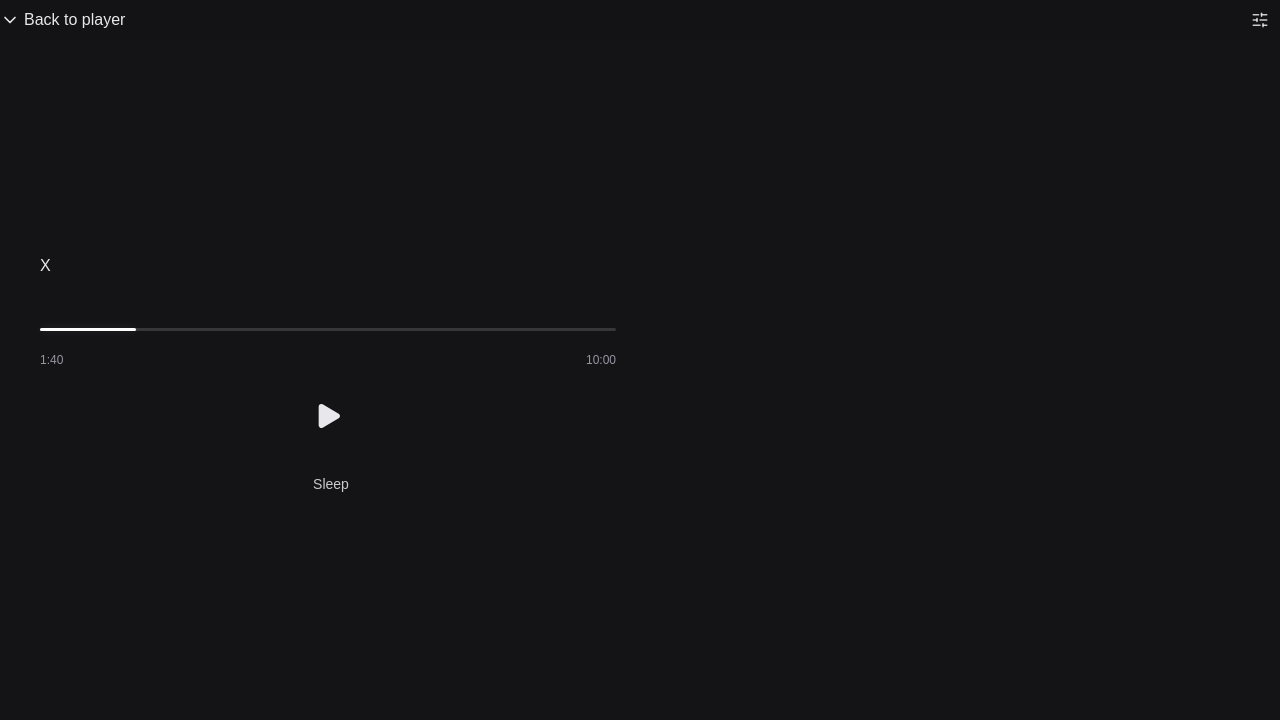
Test case: NowListening › cycles total → remaining → total at 1x speed
Click the button with test id "now-listening-right-time": [601, 360] box [586,352,616,368]
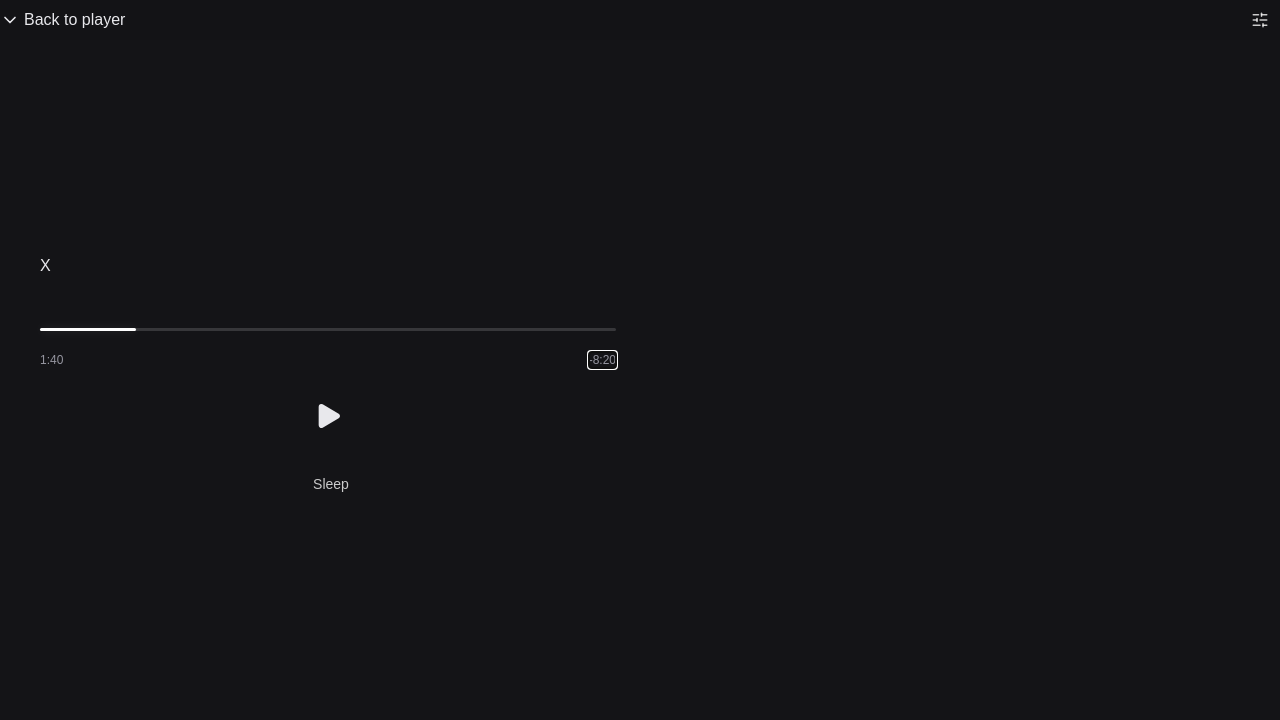
Result: the button with test id "now-listening-right-time" reads "-8:20"
Click the button with test id "now-listening-right-time": [602, 360] box [589,352,616,368]
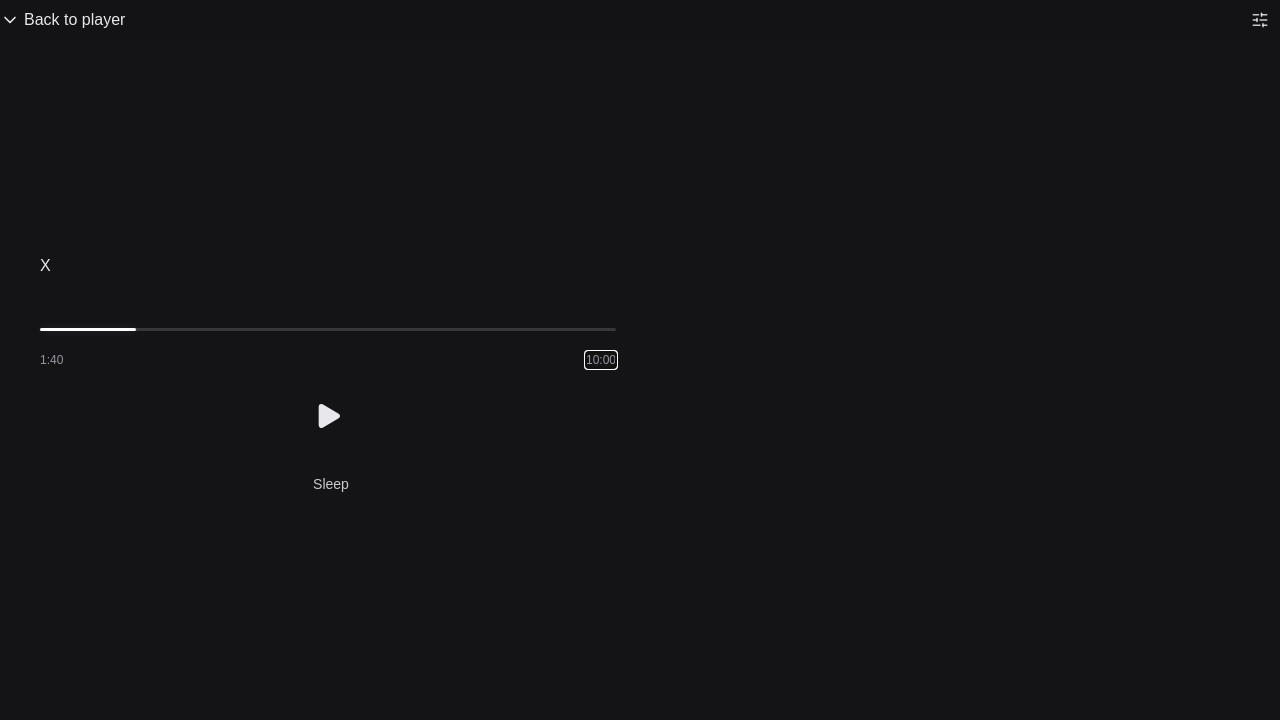
Result: the button with test id "now-listening-right-time" reads "10:00" at [586,352,616,368]
